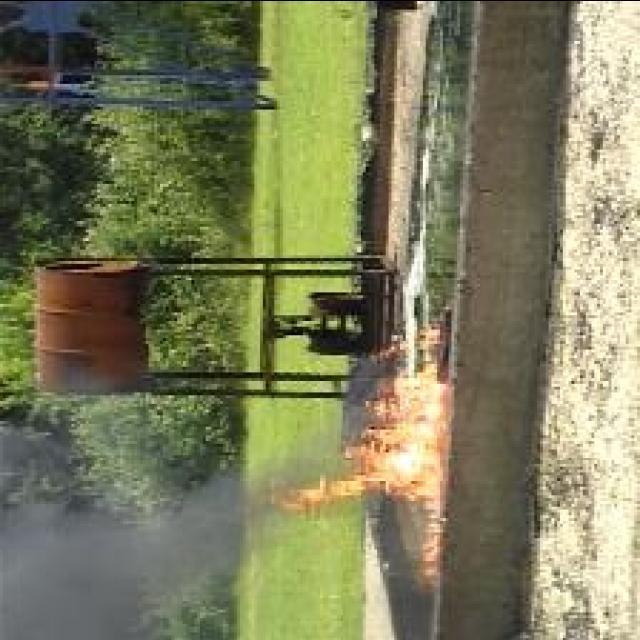Fire: (270, 322, 447, 574)
